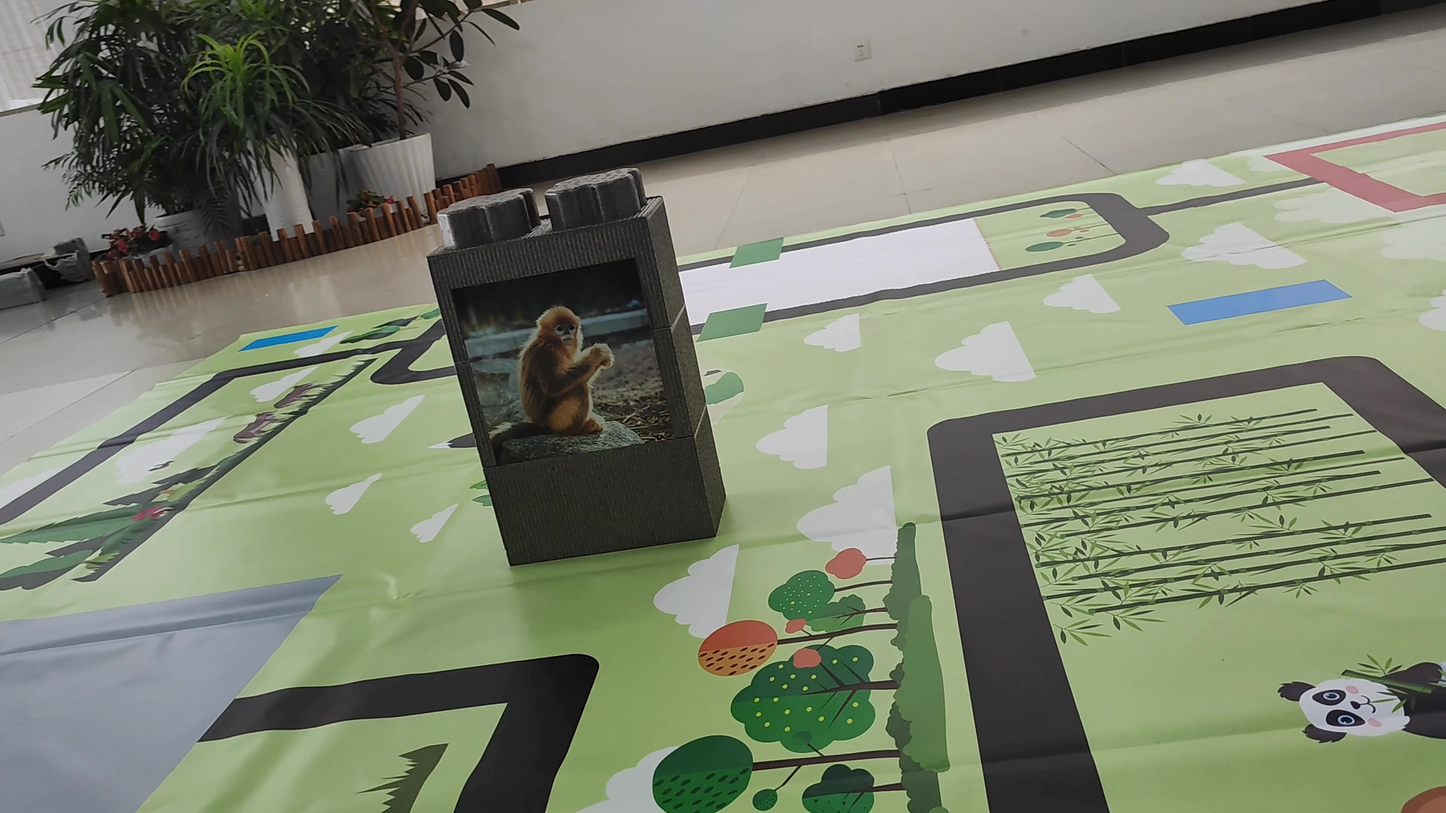monkey: (486, 287, 645, 443)
